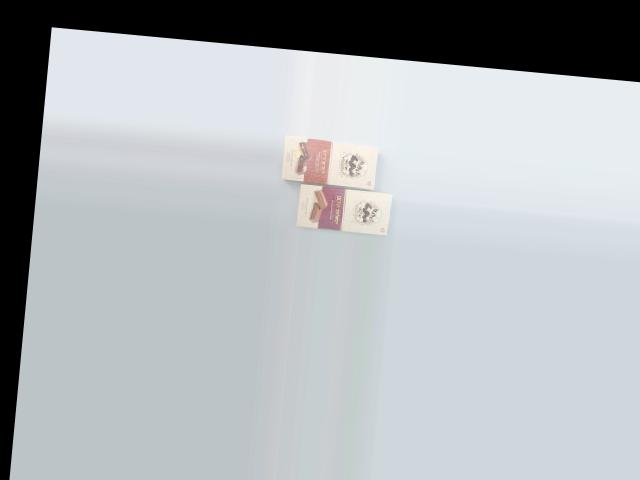chocolate: (277, 133, 383, 199)
